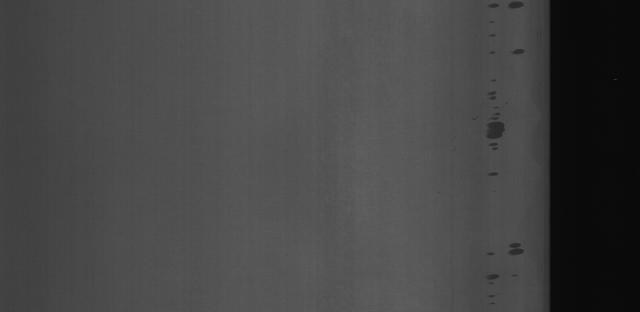oil_spot: (481, 84, 508, 186), (483, 23, 502, 76), (482, 258, 505, 292), (484, 0, 528, 16), (502, 243, 530, 258), (511, 44, 530, 60)
